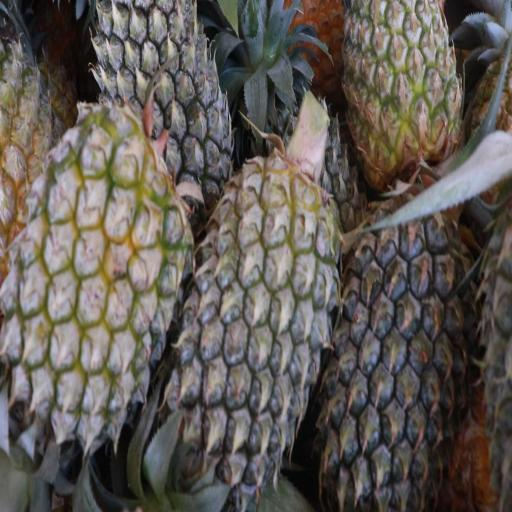------------------------------: (12, 112, 182, 441), (341, 0, 459, 181)
